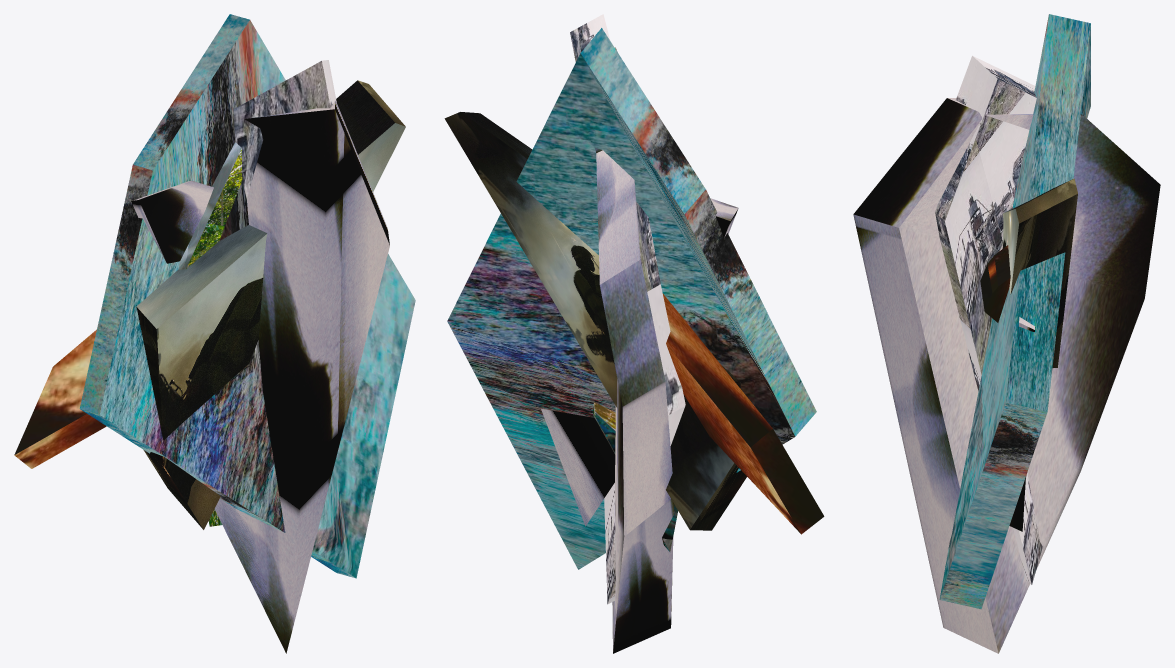
Rendered from Fragment_Img.gltf.
The picture shows the model from 3 angles, left to right: view 1: azimuth 30°, elevation 25°; view 2: azimuth 150°, elevation 25°; view 3: azimuth 270°, elevation 25°; orthographic projection. The views are drawn at different scales.
Visible parts, largest first — view 1: Frag_3_etudiant1, etudiant3, Frag_5_afp2, Frag_4_ak2, Frag_2_ak1, Frag_6_etudiant3, Frag_1_afp1; view 2: Frag_3_etudiant1, etudiant3, Frag_5_afp2, Frag_4_ak2, Frag_6_etudiant3, Frag_2_ak1, Frag_1_afp1; view 3: etudiant3, Frag_3_etudiant1, Frag_2_ak1, Frag_5_afp2, Frag_4_ak2, Frag_6_etudiant3.
Boxes of the visible parts, x1,y1,x2,y2 form: Frag_3_etudiant1: [79, 14, 415, 578]; etudiant3: [214, 100, 389, 653]; Frag_5_afp2: [136, 80, 405, 529]; Frag_4_ak2: [14, 329, 106, 468]; Frag_2_ak1: [233, 60, 336, 198]; Frag_6_etudiant3: [131, 180, 213, 263]; Frag_1_afp1: [178, 142, 242, 526]; Frag_3_etudiant1: [447, 28, 816, 569]; etudiant3: [595, 47, 674, 653]; Frag_5_afp2: [444, 112, 746, 530]; Frag_4_ak2: [662, 293, 824, 534]; Frag_6_etudiant3: [541, 198, 738, 526]; Frag_2_ak1: [570, 14, 685, 604]; Frag_1_afp1: [593, 402, 677, 552]; etudiant3: [853, 98, 1160, 653]; Frag_3_etudiant1: [939, 14, 1090, 609]; Frag_2_ak1: [935, 55, 1042, 584]; Frag_5_afp2: [1002, 178, 1077, 367]; Frag_4_ak2: [980, 245, 1010, 322]; Frag_6_etudiant3: [1009, 317, 1035, 531].
Bounding box in the file's own units: 11.51 × 18.14 × 7.98.
Materials: 7 (7 with a texture image).
